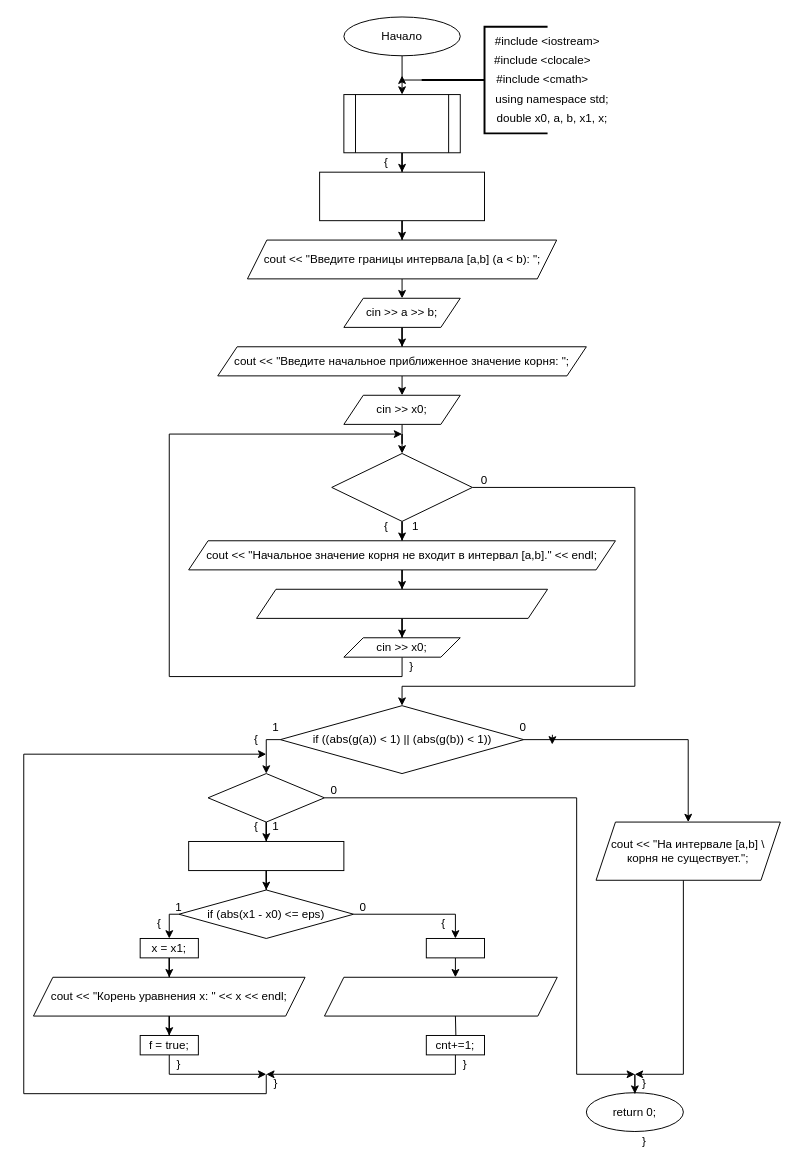
Image size: 797x1168. Some labels were removed from this diagram. The shapes that lost their labels are listed below. From the top down, each one's box as (x1, y1, x2, y2) in pixels, then its label:
(343, 94, 460, 153): int main()
(319, 171, 485, 221): const double eps = pow(10,-6); int cnt = 0; bool f = false;
(331, 453, 472, 521): while (x0 > b || x0 < a)
(256, 588, 548, 618): cout << "Введите начальное значение корня: ";
(207, 773, 324, 822): while (f != true)
(188, 841, 344, 871): x1 = g(x0);
(425, 938, 485, 958): x0 = x1;
(323, 976, 557, 1016): cout << "x" << cnt << ": " << x0 << endl;
